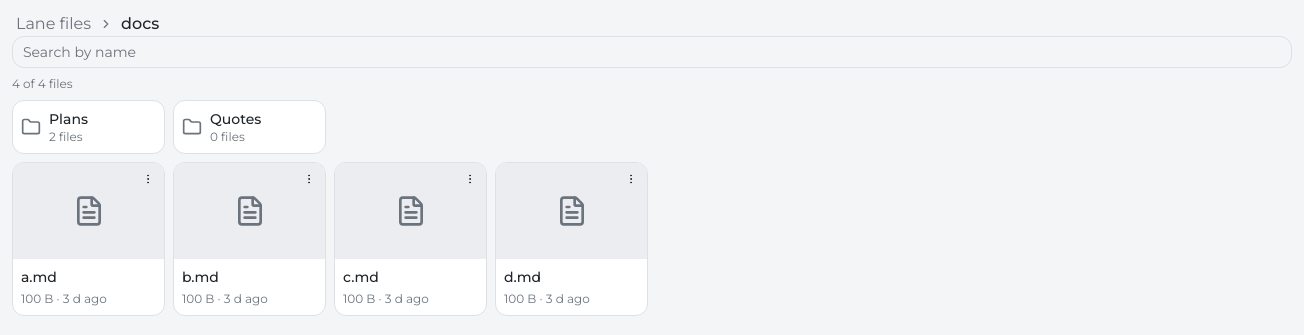
Test: right-click menus › repo files and folders say they are read only and offer no edits
Right-click the list item with test id "file-tile" showing "a.md 100 B · 3 d ago" at (88, 239), box [12, 162, 165, 316]
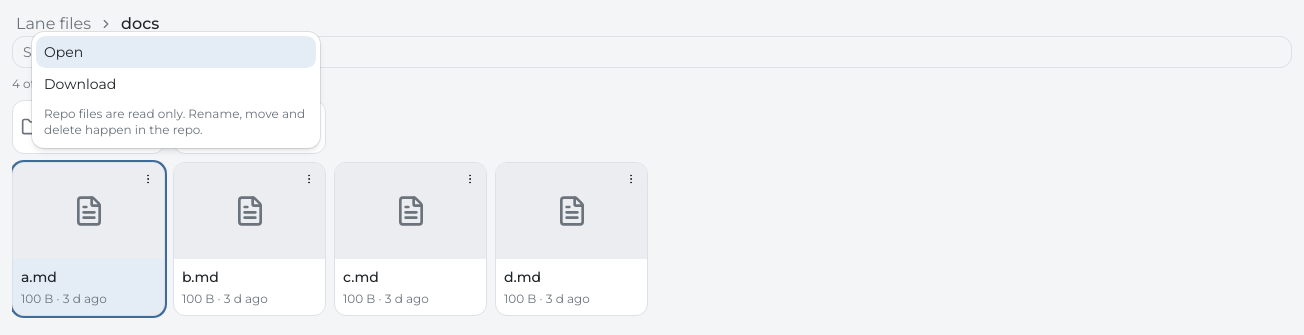
Now the text with test id "context-note" shows "read only", box [44, 106, 305, 137]
Press Escape in the menu, box [32, 32, 320, 148]
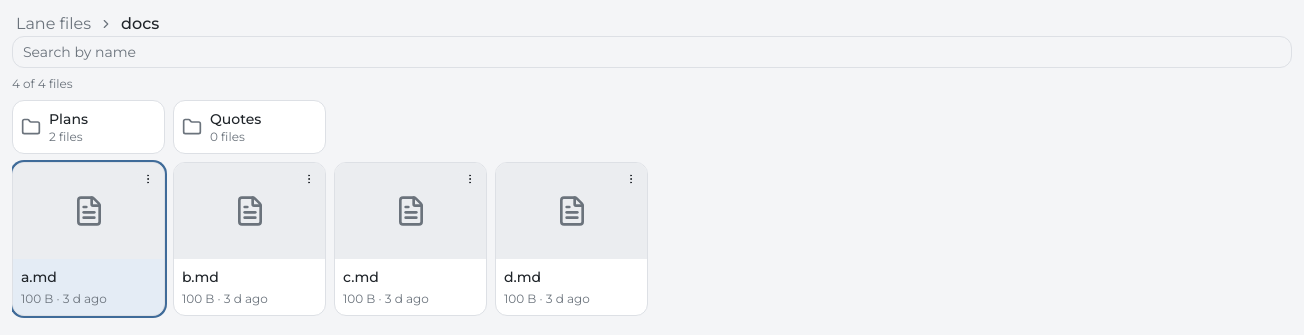
Right-click the element with test id "file-grid" at (652, 176), box [12, 36, 1292, 316]
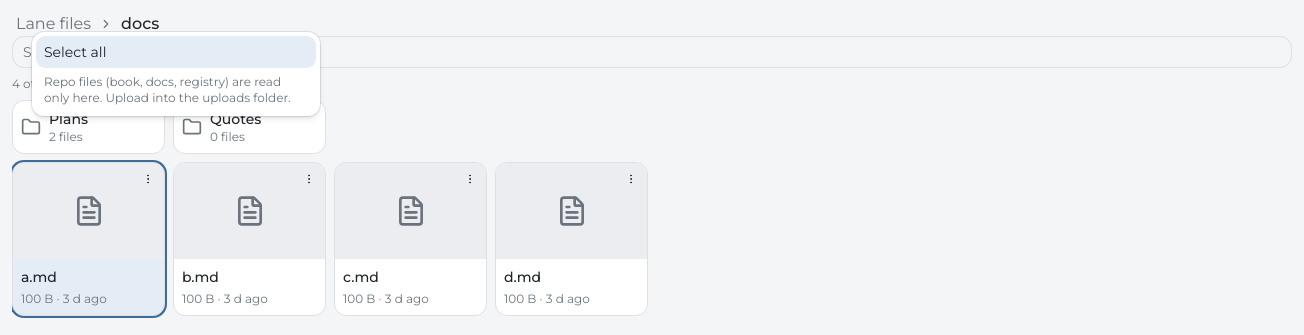
Now the text with test id "context-note" shows "read only", box [44, 74, 291, 105]
